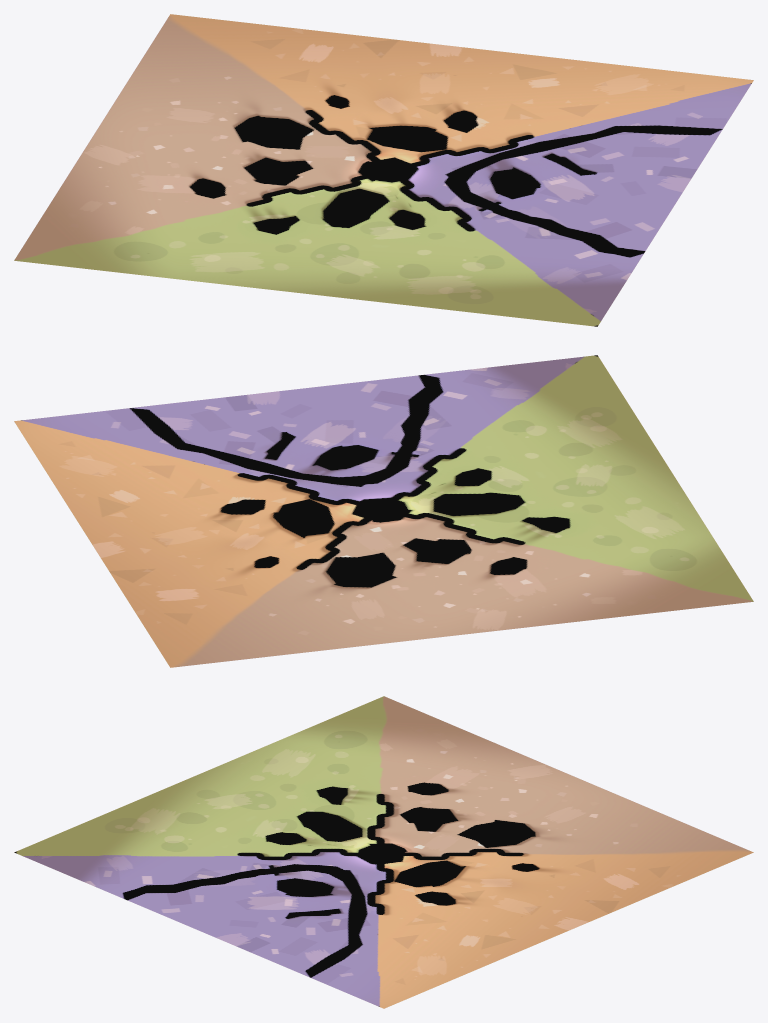
The model's file is LIGHT_SOL2.glb.
The picture shows the model from 3 angles, top to bottom: view 1: azimuth 30°, elevation 25°; view 2: azimuth 150°, elevation 25°; view 3: azimuth 270°, elevation 25°; orthographic projection. The views are drawn at different scales.
Parts seen in each view (by area): view 1: PLATEAU_SOL; view 2: PLATEAU_SOL; view 3: PLATEAU_SOL.
Boxes of the visible parts, left/top/right/bottom form: PLATEAU_SOL: left=14, top=14, right=753, bottom=326; PLATEAU_SOL: left=14, top=355, right=753, bottom=667; PLATEAU_SOL: left=14, top=696, right=753, bottom=1008.
Size of the model in its own units: 160 by 0 by 160.
1 material, 1 textured.
